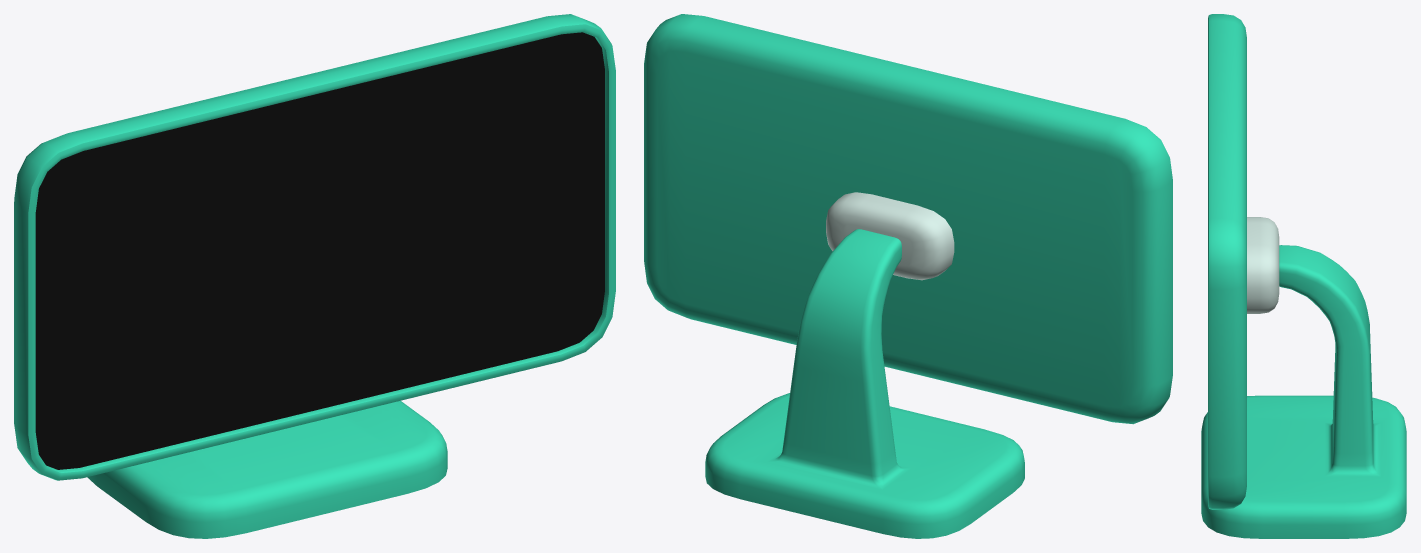
Rendered from Monitor_Single_V1.fbx.
3 renders of one model, left to right at view 1: azimuth 30°, elevation 25°; view 2: azimuth 150°, elevation 25°; view 3: azimuth 270°, elevation 25°, orthographic. The views are drawn at different scales.
Visible parts, largest first — view 1: Monitor_Single_V1; view 2: Monitor_Single_V1; view 3: Monitor_Single_V1.
Part boxes in pixels (x1,y1,x2,y2): Monitor_Single_V1: (14, 14, 615, 538); Monitor_Single_V1: (644, 14, 1172, 538); Monitor_Single_V1: (1201, 14, 1406, 538).
Size of the model in its own units: 128 by 88.54 by 45.82.
